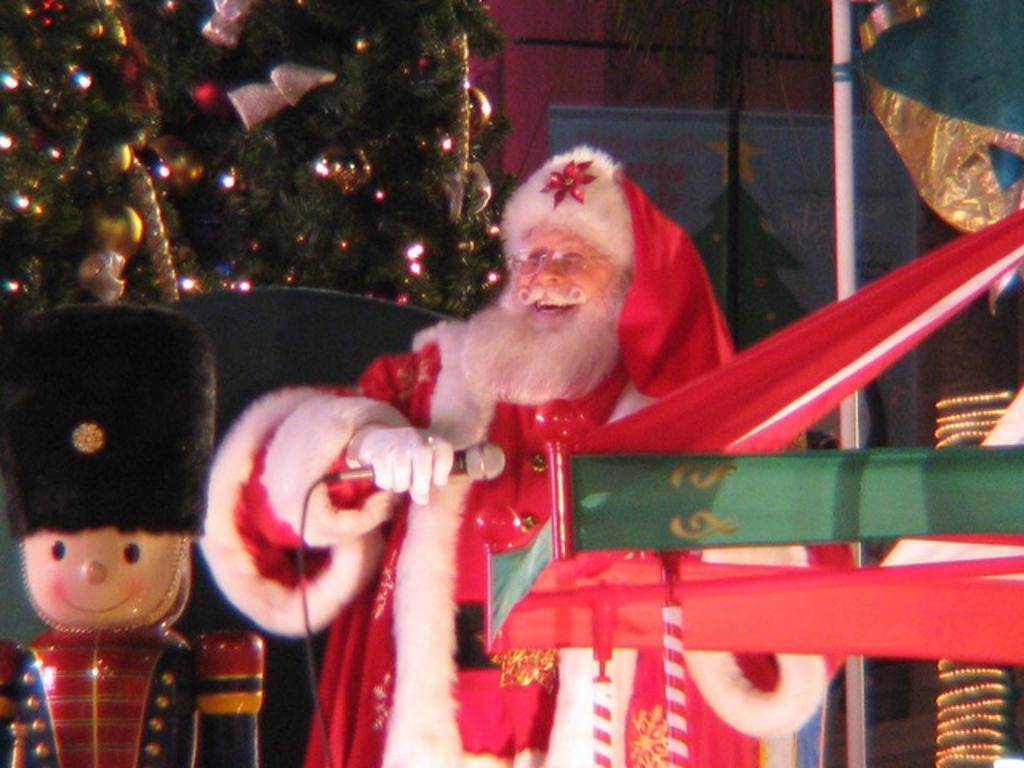face: (519, 225, 611, 335)
